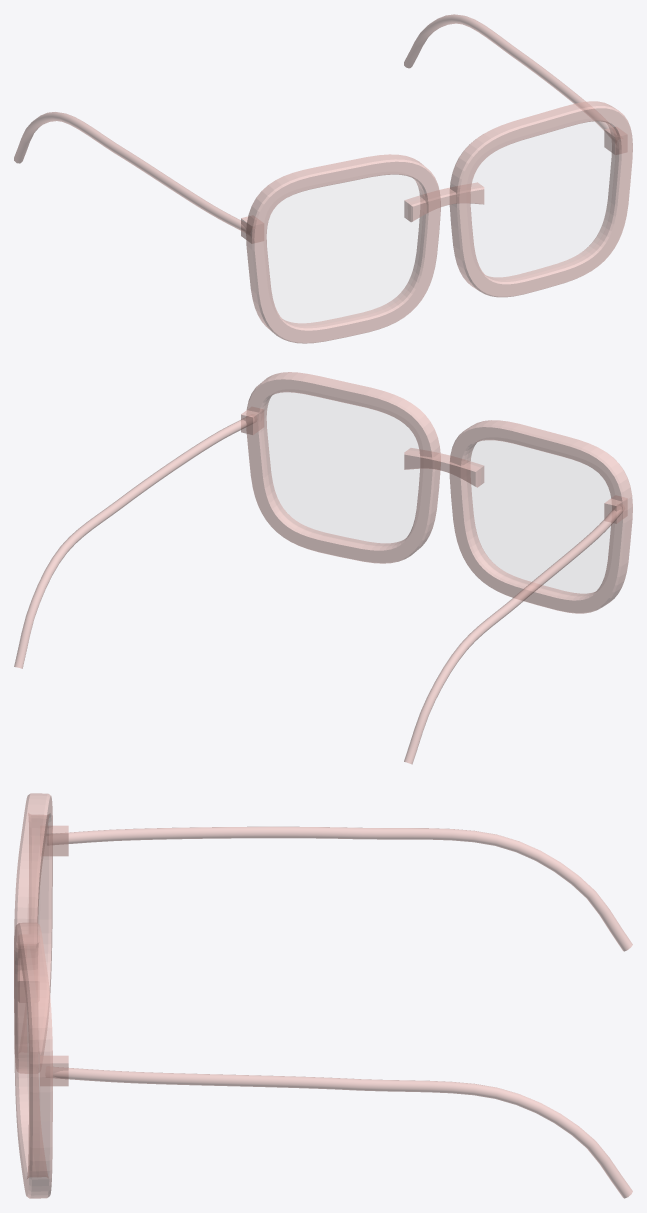
Rendered from BM-W10_Veda_Blush_crystal.glb.
3 views of the same model, one above another, from view 1: azimuth 30°, elevation 25°; view 2: azimuth 150°, elevation 25°; view 3: azimuth 270°, elevation 25° (orthographic). The views are drawn at different scales.
Parts seen in each view (by area): view 1: Veda_Blush_crystal_Lenses, Veda_Blush_crystal_Acetate; view 2: Veda_Blush_crystal_Lenses, Veda_Blush_crystal_Acetate; view 3: Veda_Blush_crystal_Acetate.
Part boxes in pixels (x1=…): Veda_Blush_crystal_Lenses: x1=267, y1=122, x2=614, y2=325; Veda_Blush_crystal_Acetate: x1=14, y1=14, x2=632, y2=343; Veda_Blush_crystal_Lenses: x1=264, y1=393, x2=610, y2=595; Veda_Blush_crystal_Acetate: x1=14, y1=372, x2=632, y2=764; Veda_Blush_crystal_Acetate: x1=14, y1=793, x2=632, y2=1198.
Size of the model in its own units: 0.1438 by 0.0574 by 0.1457.
